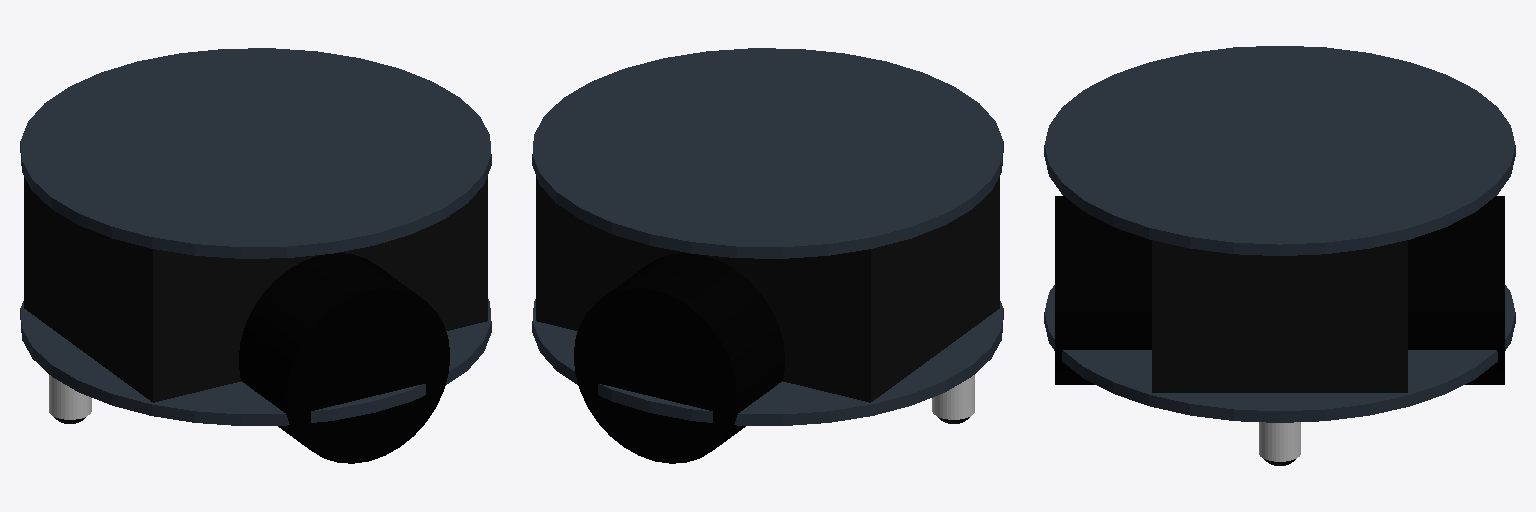
The robot description file, URDF, robot "alphabot2":
<?xml version="1.0"?>
<robot name="alphabot2" xmlns:xacro="http://www.ros.org/wiki/xacro">
    <!-- Colour definitions -->
    <material name="black">
        <color rgba="0.03 0.03 0.03 1.0" />
    </material>
    <material name="white">
        <color rgba="0.8 0.8 0.8 1.0" />
    </material>
    <material name="grey">
        <color rgba="0.1 0.1 0.1 1.0" />
    </material>
    <material name="blue">
        <color rgba="0.203125 0.23828125 0.28515625 1.0" />
    </material>
    <!-- * * * Link Definitions * * * -->
    <link name="bottom_plate">
        <!-- estimated as a thin aluminum plate: r=0.055 m, h=0.003 m -->
        <inertial>
            <origin xyz="0 0 0" rpy="0 0 0" />
            <mass value="0.08" />
            <inertia ixx="0.00006056" ixy="0.0" ixz="0.0" iyy="0.00006056" iyz="0.0" izz="0.00012100" />
        </inertial>
        <visual>
            <origin xyz="0 0 0" rpy="0 0 0" />
            <geometry>
                <cylinder radius="0.055" length="0.003" />
            </geometry>
            <material name="blue" />
        </visual>
        <collision>
            <origin xyz="0 0 0" rpy="0 0 0" />
            <geometry>
                <cylinder radius="0.055" length="0.003" />
            </geometry>
        </collision>
    </link>
    <link name="body">
        <!-- estimated as a plastic box: 0.09 x 0.06 x 0.04 m, density ~1200 kg/m^3 -->
        <inertial>
            <origin xyz="0 0 0" rpy="0 0 0" />
            <mass value="0.26" />
            <inertia ixx="0.00011267" ixy="0.0" ixz="0.0" iyy="0.00021017" iyz="0.0" izz="0.00025375" />
        </inertial>
        <visual>
            <geometry>
                <box size="0.09 0.06 0.04" />
            </geometry>
            <material name="grey" />
        </visual>
        <collision>
            <geometry>
                <box size="0.09 0.06 0.04" />
            </geometry>
        </collision>
    </link>
    <link name="top_plate">
        <!-- thin plastic plate (same geometry as bottom_plate), estimated mass ~0.034 kg -->
        <inertial>
            <origin xyz="0 0 0" rpy="0 0 0" />
            <mass value="0.0342" />
            <inertia ixx="0.00002590" ixy="0.0" ixz="0.0" iyy="0.00002590" iyz="0.0" izz="0.00005177" />
        </inertial>
        <visual>
            <origin xyz="0 0 0" rpy="0 0 0" />
            <geometry>
                <cylinder radius="0.055" length="0.003" />
            </geometry>
            <material name="blue" />
        </visual>
        <collision>
            <origin xyz="0 0 0" rpy="0 0 0" />
            <geometry>
                <cylinder radius="0.055" length="0.003" />
            </geometry>
        </collision>
    </link>
    <link name="wheelLeft">
        <!-- approximated solid wheel: r=0.022 m, L=0.025 m, mass ~0.04 kg -->
        <inertial>
            <origin xyz="0 0 0" rpy="0 0 0" />
            <mass value="0.04" />
            <inertia ixx="0.0000069233" ixy="0.0" ixz="0.0" iyy="0.0000069233" iyz="0.0" izz="0.0000096800" />
        </inertial>
        <visual>
            <origin xyz="0 0 0" rpy="1.5708 0 0" />
            <geometry>
                <cylinder radius="0.022" length="0.025" />
            </geometry>
            <material name="black" />
        </visual>
        <collision>
            <origin xyz="0 0 0" rpy="1.5708 0 0" />
            <geometry>
                <cylinder radius="0.022" length="0.025" />
            </geometry>
        </collision>
    </link>
    <link name="wheelRight">
        <!-- approximated solid wheel: r=0.022 m, L=0.025 m, mass ~0.04 kg -->
        <inertial>
            <origin xyz="0 0 0" rpy="0 0 0" />
            <mass value="0.04" />
            <inertia ixx="0.0000069233" ixy="0.0" ixz="0.0" iyy="0.0000069233" iyz="0.0" izz="0.0000096800" />
        </inertial>
        <visual>
            <origin xyz="0 0 0" rpy="1.5708 0 0" />
            <geometry>
                <cylinder radius="0.022" length="0.025" />
            </geometry>
            <material name="black" />
        </visual>
        <collision>
            <origin xyz="0 0 0" rpy="1.5708 0 0" />
            <geometry>
                <cylinder radius="0.022" length="0.025" />
            </geometry>
        </collision>
    </link>
    <link name="casterFront">
        <!-- small caster stem (plastic), very small mass -->
        <inertial>
            <origin xyz="0 0 0" rpy="0 0 0" />
            <mass value="0.00094" />
            <inertia ixx="0.00000001371" ixy="0.0" ixz="0.0" iyy="0.00000001371" iyz="0.0" izz="0.00000001175" />
        </inertial>
        <visual>
            <origin xyz="0 0 0" rpy="0 0 0" />
            <geometry>
                <cylinder radius="0.005" length="0.01" />
            </geometry>
            <material name="white" />
        </visual>
        <collision>
            <origin xyz="0 0 0" rpy="0 0 0" />
            <geometry>
                <cylinder radius="0.005" length="0.01" />
            </geometry>
        </collision>
    </link>
    <link name="casterBallFront">
        <!-- small spherical caster ball -->
        <inertial>
            <origin xyz="0 0 0" rpy="0 0 0" />
            <mass value="0.000628" />
            <inertia ixx="0.00000000628" ixy="0.0" ixz="0.0" iyy="0.00000000628" iyz="0.0" izz="0.00000000628" />
        </inertial>
        <visual>
            <origin xyz="0 0 0" rpy="0 0 0" />
            <geometry>
                <sphere radius="0.005" />
            </geometry>
            <material name="grey" />
        </visual>
        <collision>
            <origin xyz="0 0 0" rpy="0 0 0" />
            <geometry>
                <sphere radius="0.005" />
            </geometry>
        </collision>
    </link>
    <link name="casterRear">
        <!-- small caster stem (plastic), very small mass -->
        <inertial>
            <origin xyz="0 0 0" rpy="0 0 0" />
            <mass value="0.00094" />
            <inertia ixx="0.00000001371" ixy="0.0" ixz="0.0" iyy="0.00000001371" iyz="0.0" izz="0.00000001175" />
        </inertial>
        <visual>
            <origin xyz="0 0 0" rpy="0 0 0" />
            <geometry>
                <cylinder radius="0.005" length="0.01" />
            </geometry>
            <material name="white" />
        </visual>
        <collision>
            <origin xyz="0 0 0" rpy="0 0 0" />
            <geometry>
                <cylinder radius="0.005" length="0.01" />
            </geometry>
        </collision>
    </link>
    <link name="casterBallRear">
        <!-- small spherical caster ball -->
        <inertial>
            <origin xyz="0 0 0" rpy="0 0 0" />
            <mass value="0.000628" />
            <inertia ixx="0.00000000628" ixy="0.0" ixz="0.0" iyy="0.00000000628" iyz="0.0" izz="0.00000000628" />
        </inertial>
        <visual>
            <origin xyz="0 0 0" rpy="0 0 0" />
            <geometry>
                <sphere radius="0.005" />
            </geometry>
            <material name="grey" />
        </visual>
        <collision>
            <origin xyz="0 0 0" rpy="0 0 0" />
            <geometry>
                <sphere radius="0.005" />
            </geometry>
        </collision>
    </link>
    <!-- Body -->
    <joint name="body_joint" type="fixed">
        <origin xyz="0 0 0.0215" rpy="0 0 0" />
        <parent link="bottom_plate" />
        <child link="body" />
    </joint>
    <joint name="top_joint" type="fixed">
        <origin xyz="0 0 0.0215" rpy="0 0 0" />
        <parent link="body" />
        <child link="top_plate" />
    </joint>
    <joint name="casterFront_joint" type="fixed">
        <origin xyz="0.05 0.0 -0.0065" rpy="0 0 0" />
        <parent link="bottom_plate" />
        <child link="casterFront" />
    </joint>
    <joint name="casterBallFront_joint" type="fixed">
        <origin xyz="0.0 0.0 -0.003" rpy="0 0 0" />
        <parent link="casterFront" />
        <child link="casterBallFront" />
    </joint>
    <joint name="casterRear_joint" type="fixed">
        <origin xyz="-0.05 0.0 -0.0065" rpy="0 0 0" />
        <parent link="bottom_plate" />
        <child link="casterRear" />
    </joint>
    <joint name="casterBallRear_joint" type="fixed">
        <origin xyz="0.0 0.0 -0.003" rpy="0 0 0" />
        <parent link="casterRear" />
        <child link="casterBallRear" />
    </joint>
    <!-- Left Wheel Joint -->
    <joint name="wheelLeft_joint" type="continuous">
        <origin xyz="0.0 0.04 0.007" rpy="0 0 0" />
        <axis xyz="0 1 0" />
        <parent link="bottom_plate" />
        <child link="wheelLeft" />
        <limit effort="10000" velocity="1000" />
        <dynamics damping="1.0" friction="1.0" />
    </joint>
    <!-- Right Wheel Joint -->
    <joint name="wheelRight_joint" type="continuous">
        <origin xyz="0.0 -0.04 0.007" rpy="0 0 0" />
        <axis xyz="0 1 0" />
        <parent link="bottom_plate" />
        <child link="wheelRight" />
        <limit effort="10000" velocity="1000" />
        <dynamics damping="1.0" friction="1.0" />
    </joint>
    <!-- Gazebo plugin for ROS Control -->
    <transmission name="tranRight">
        <type>transmission_interface/SimpleTransmission</type>
        <joint name="wheelRight_joint">
            <hardwareInterface>EffortJointInterface</hardwareInterface>
        </joint>
        <actuator name="motorRight">
            <hardwareInterface>EffortJointInterface</hardwareInterface>
            <mechanicalReduction>1</mechanicalReduction>
        </actuator>
    </transmission>
    <transmission name="tranLeft">
        <type>transmission_interface/SimpleTransmission</type>
        <joint name="wheelLeft_joint">
            <hardwareInterface>EffortJointInterface</hardwareInterface>
        </joint>
        <actuator name="motorLeft">
            <hardwareInterface>EffortJointInterface</hardwareInterface>
            <mechanicalReduction>1</mechanicalReduction>
        </actuator>
    </transmission>

    <gazebo>
        <plugin filename="gz-sim-diff-drive-system" name="gz::sim::systems::DiffDrive">
            <left_joint>wheelLeft_joint</left_joint>
            <right_joint>wheelRight_joint</right_joint>
            <wheel_separation>0.07</wheel_separation>
            <wheel_radius>0.01</wheel_radius>
        </plugin>
    </gazebo>
</robot>

--- Facts derived from the render (not from the file) ---
Views: 3 orthographic renders of the robot side by side, from view 1: azimuth 30°, elevation 25°; view 2: azimuth 150°, elevation 25°; view 3: azimuth 270°, elevation 25°.
Robot: alphabot2 — 9 links, 8 joints (2 continuous, 6 fixed); root link bottom_plate; default pose: all joints at 0.
Visible links, largest first — view 1: top_plate, body, wheelRight, bottom_plate, casterRear; view 2: top_plate, body, wheelLeft, bottom_plate, casterRear; view 3: top_plate, body, bottom_plate, wheelLeft, wheelRight, casterFront.
Link boxes in pixels (x1=…): top_plate: x1=20, y1=48, x2=491, y2=258; body: x1=24, y1=176, x2=487, y2=402; wheelRight: x1=239, y1=253, x2=449, y2=463; bottom_plate: x1=20, y1=299, x2=491, y2=425; casterRear: x1=49, y1=375, x2=91, y2=419; top_plate: x1=532, y1=48, x2=1003, y2=258; body: x1=536, y1=176, x2=999, y2=402; wheelLeft: x1=574, y1=253, x2=784, y2=463; bottom_plate: x1=532, y1=299, x2=1003, y2=425; casterRear: x1=932, y1=375, x2=974, y2=419; top_plate: x1=1044, y1=46, x2=1515, y2=255; body: x1=1152, y1=240, x2=1407, y2=392; bottom_plate: x1=1044, y1=285, x2=1515, y2=422; wheelLeft: x1=1408, y1=196, x2=1504, y2=384; wheelRight: x1=1055, y1=196, x2=1151, y2=384; casterFront: x1=1259, y1=422, x2=1300, y2=461.
Size in the robot's own frame: 0.11 by 0.11 by 0.0595 metres.
Geometry: primitives only (box / cylinder / sphere), no mesh files.
